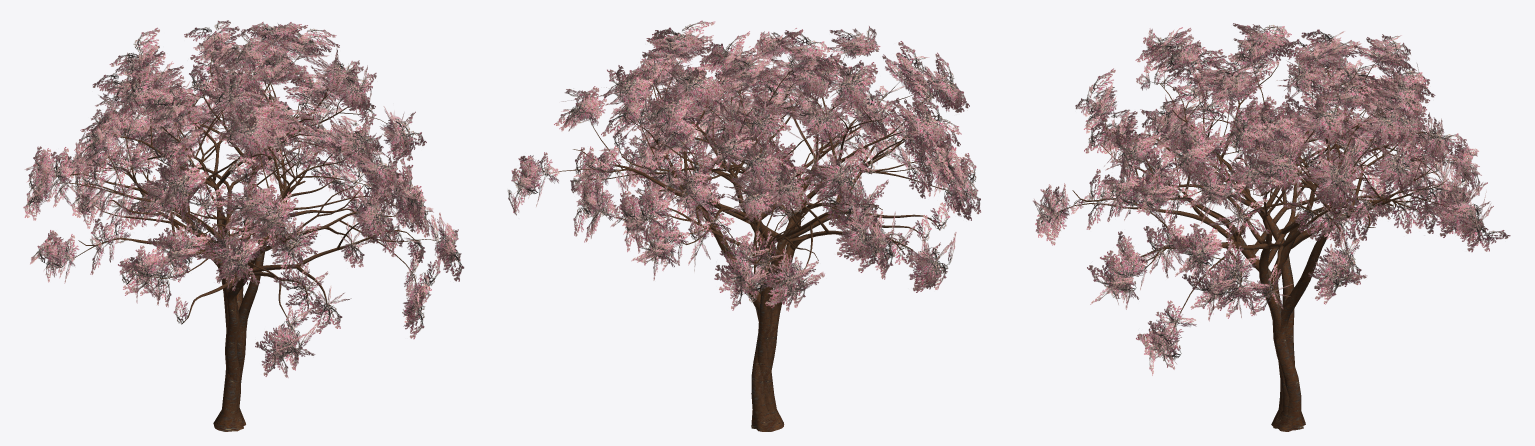
File: Cherry1.gltf
3 renders of one model, left to right at view 1: azimuth 30°, elevation 25°; view 2: azimuth 150°, elevation 25°; view 3: azimuth 270°, elevation 25°, orthographic. The views are drawn at different scales.
Visible parts, largest first — view 1: cherry_1_Tree_1Mat_0, cherry_1_Tree_0Mat_0; view 2: cherry_1_Tree_1Mat_0, cherry_1_Tree_0Mat_0; view 3: cherry_1_Tree_1Mat_0, cherry_1_Tree_0Mat_0.
Part boxes in pixels (<box>): cherry_1_Tree_1Mat_0: <box>23,20,464,377</box>; cherry_1_Tree_0Mat_0: <box>37,47,439,431</box>; cherry_1_Tree_1Mat_0: <box>507,20,980,311</box>; cherry_1_Tree_0Mat_0: <box>520,53,964,431</box>; cherry_1_Tree_1Mat_0: <box>1033,23,1510,375</box>; cherry_1_Tree_0Mat_0: <box>1055,50,1480,431</box>.
Size of the model in its own units: 186 by 179 by 208.
2 materials, 2 textured.
